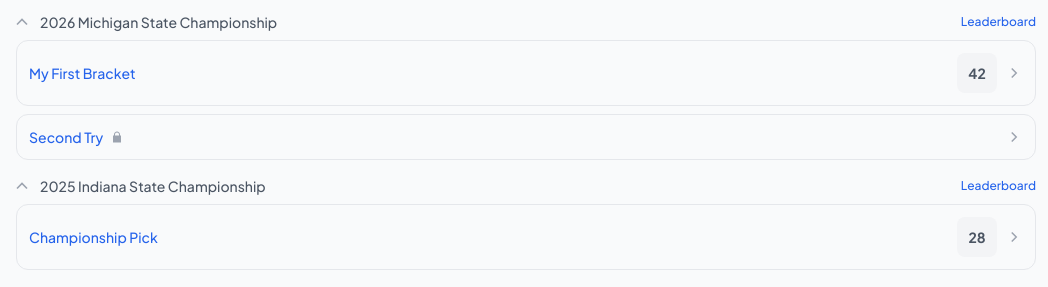
MyBracketsTable › collapsible behavior › expands tournament when collapsed header is clicked again
This screenshot has width=1048, height=287.
Step 1. Click the button "2026 Michigan State Championship" → point(145, 22), box [12, 12, 277, 32]
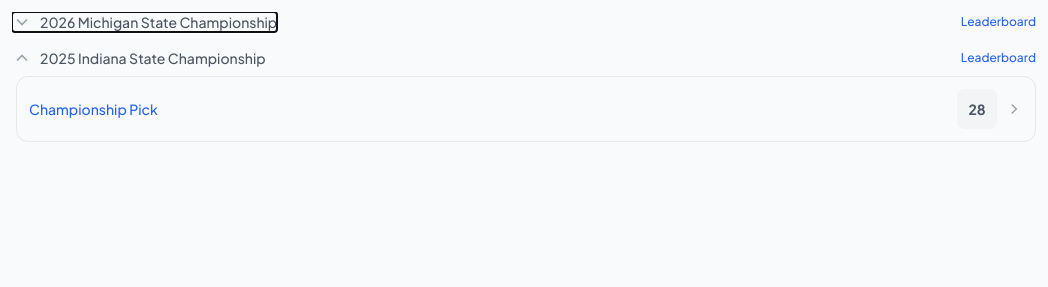
expect the link "My First Bracket" is gone: met
# Expand again
Step 2. Click the button "2026 Michigan State Championship" → point(145, 22), box [12, 12, 277, 32]
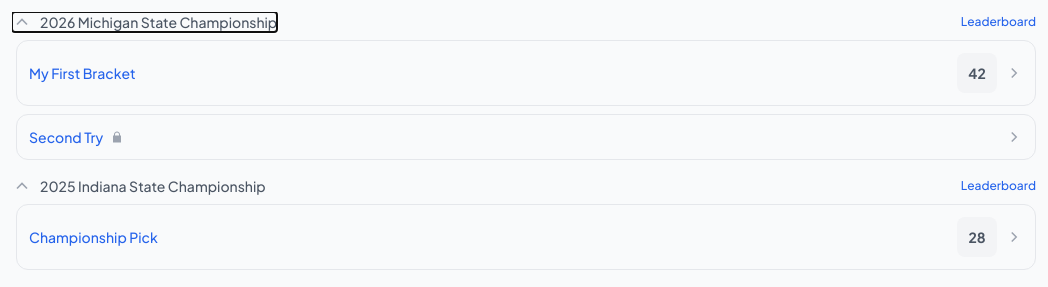
expect the heading "My First Bracket" is shown: met, box [29, 63, 136, 83]
